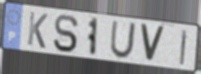1: (87, 16, 100, 58)
I: (178, 28, 189, 67)
K: (26, 10, 49, 50)
S: (52, 14, 80, 54)
U: (108, 20, 138, 61)
V: (139, 22, 167, 64)
